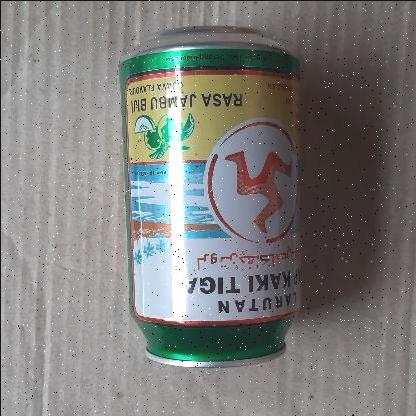Plastic Bottle: (76, 14, 324, 390)
